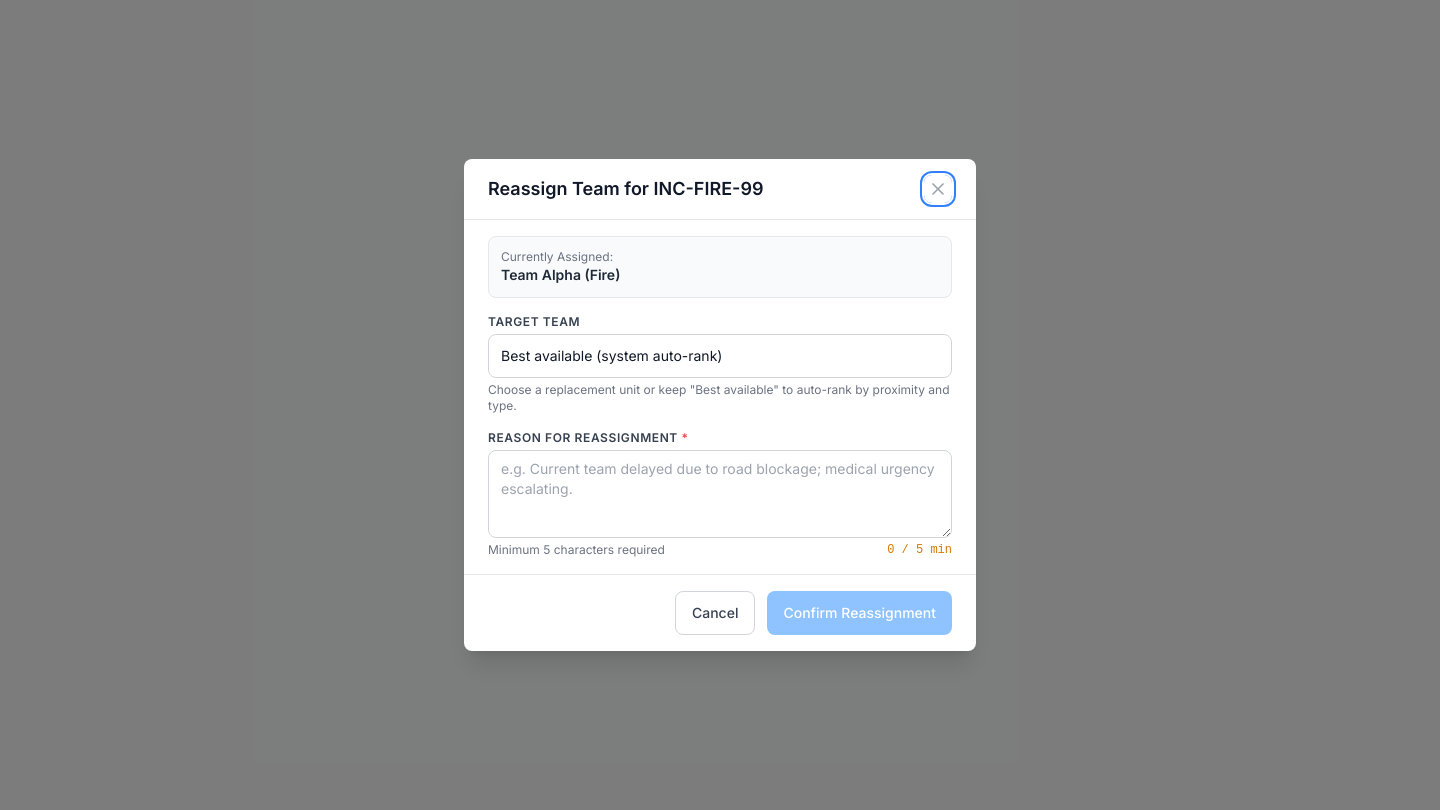
Scenario: ReassignModal (Reason Mandatory >= 5 Chars) › keeps button disabled when reason is less than 5 characters and displays error message
Step 1. Type "late" into the text box labelled "Reason for Reassignment *" → (720, 494), box [488,450,952,538]
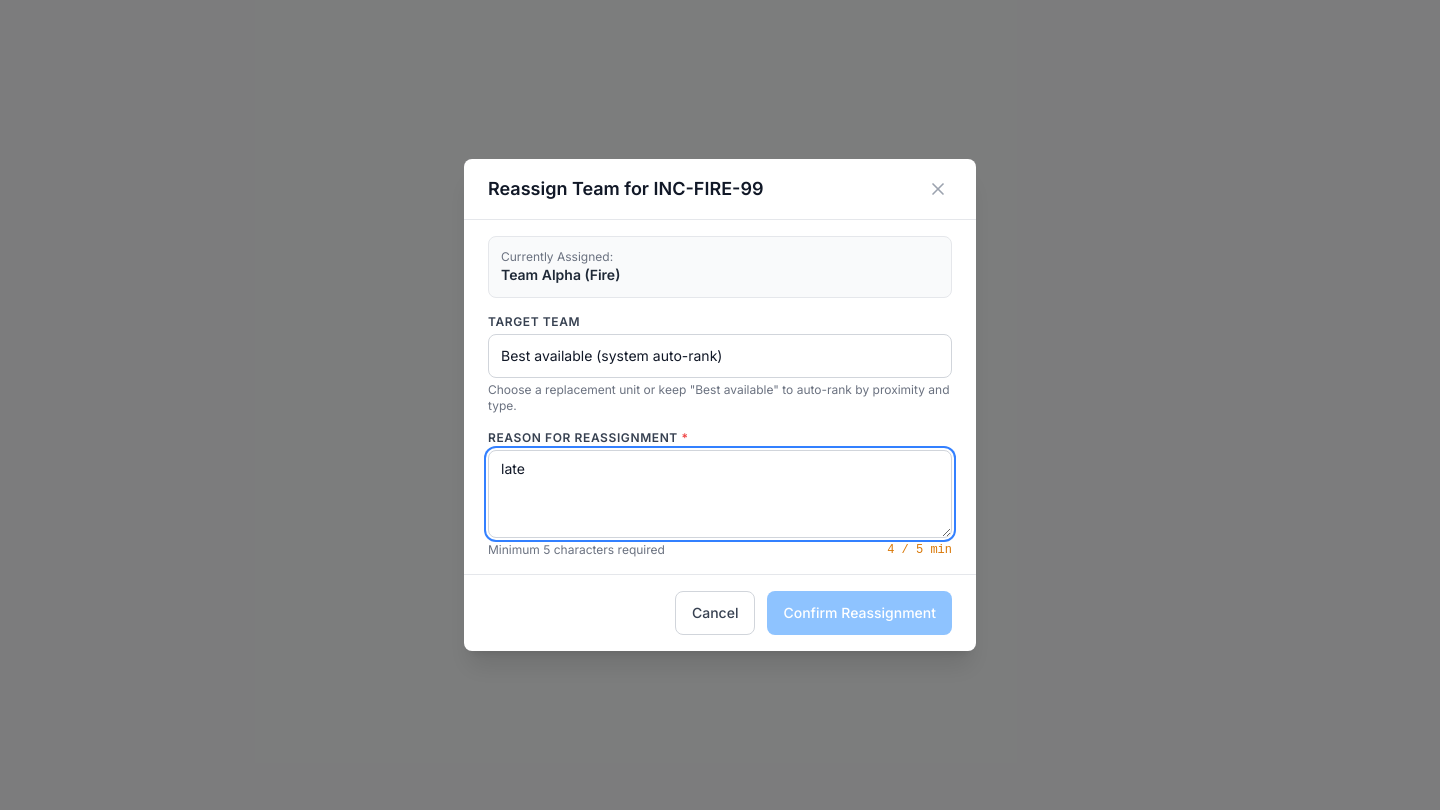
Step 2. Press Tab
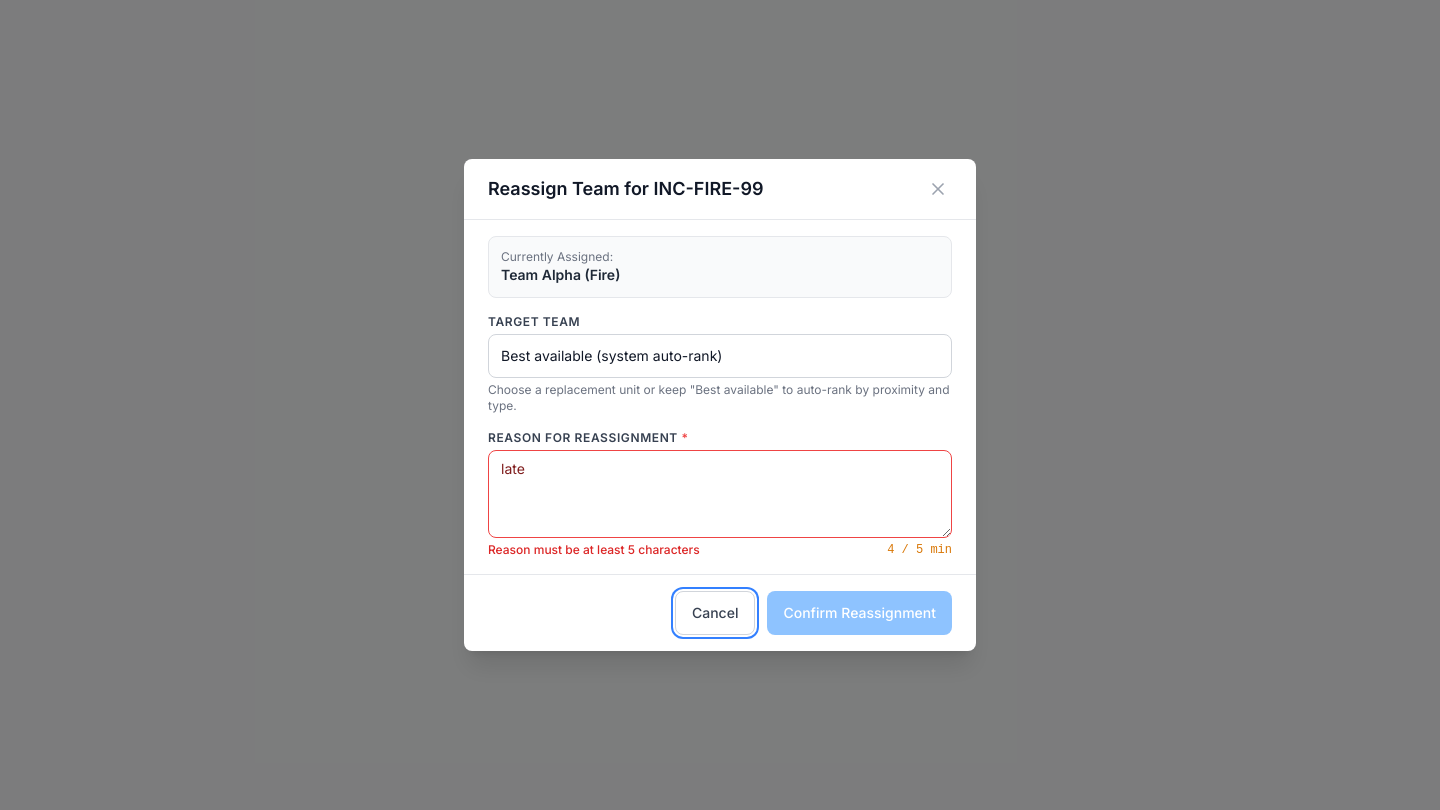
Check: the button "Confirm Reassignment" is disabled, box [768,591,952,635]
Check: the text "Reason must be at least 5 characters" is shown, box [488,542,700,557]
